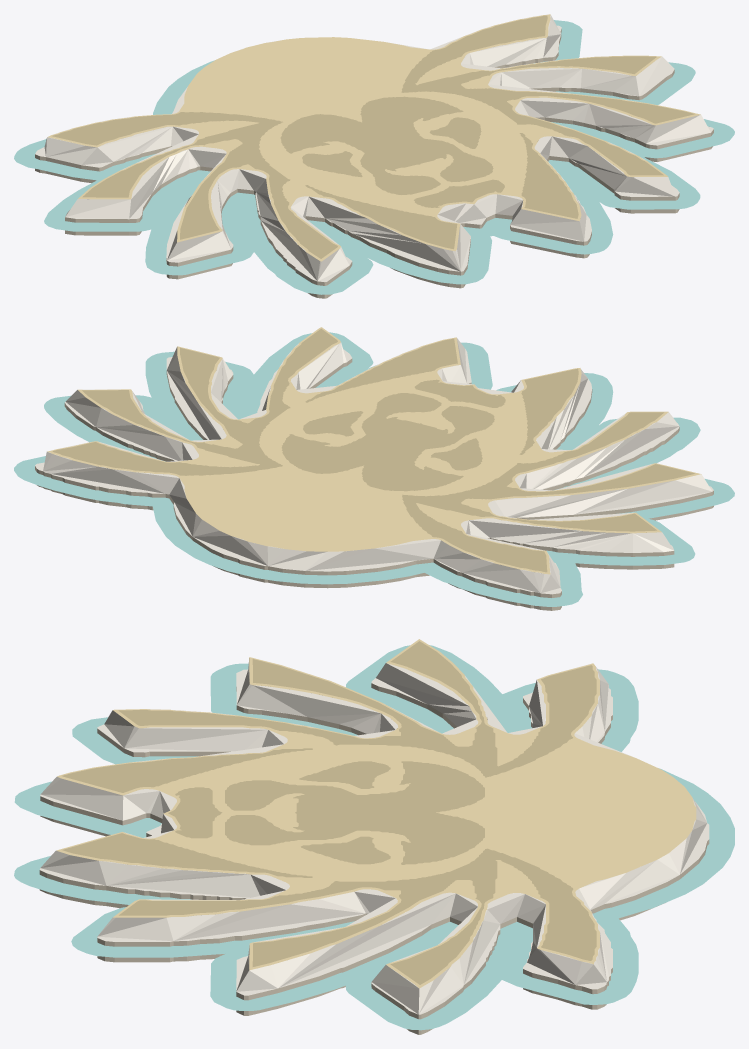
Rendered from lion.glb.
3 renders of one model, top to bottom at view 1: azimuth 30°, elevation 25°; view 2: azimuth 150°, elevation 25°; view 3: azimuth 270°, elevation 25°, orthographic. The views are drawn at different scales.
Parts seen in each view (by area): view 1: details, terre, plage, lagon, falaise; view 2: details, terre, plage, lagon, falaise; view 3: details, terre, plage, lagon, falaise.
Boxes of the visible parts, left/top/right/bottom form: details: left=52, top=15, right=694, bottom=258; terre: left=47, top=14, right=700, bottom=261; plage: left=35, top=14, right=713, bottom=282; lagon: left=14, top=20, right=734, bottom=294; falaise: left=35, top=29, right=713, bottom=298; details: left=52, top=328, right=694, bottom=572; terre: left=47, top=327, right=701, bottom=574; plage: left=35, top=338, right=713, bottom=594; lagon: left=14, top=332, right=734, bottom=606; falaise: left=35, top=358, right=713, bottom=610; details: left=62, top=641, right=596, bottom=984; terre: left=56, top=639, right=696, bottom=988; plage: left=40, top=658, right=709, bottom=1014; lagon: left=14, top=645, right=734, bottom=1030; falaise: left=39, top=683, right=709, bottom=1034.
Bounding box in the file's own units: 1.06 × 0.0508 × 0.8364.
